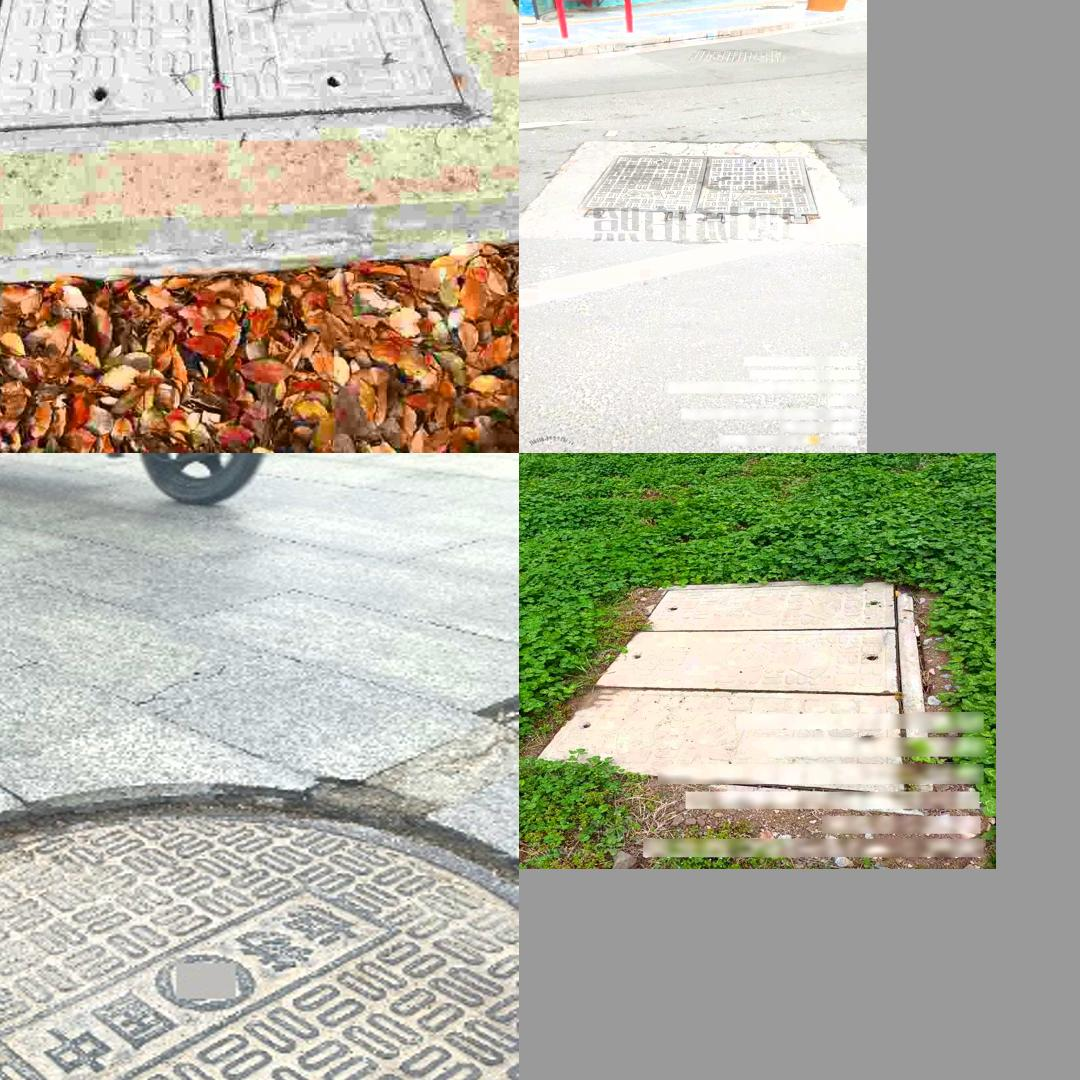good: (0, 804, 513, 1080), (534, 575, 930, 814), (0, 0, 488, 146), (577, 155, 821, 225)
